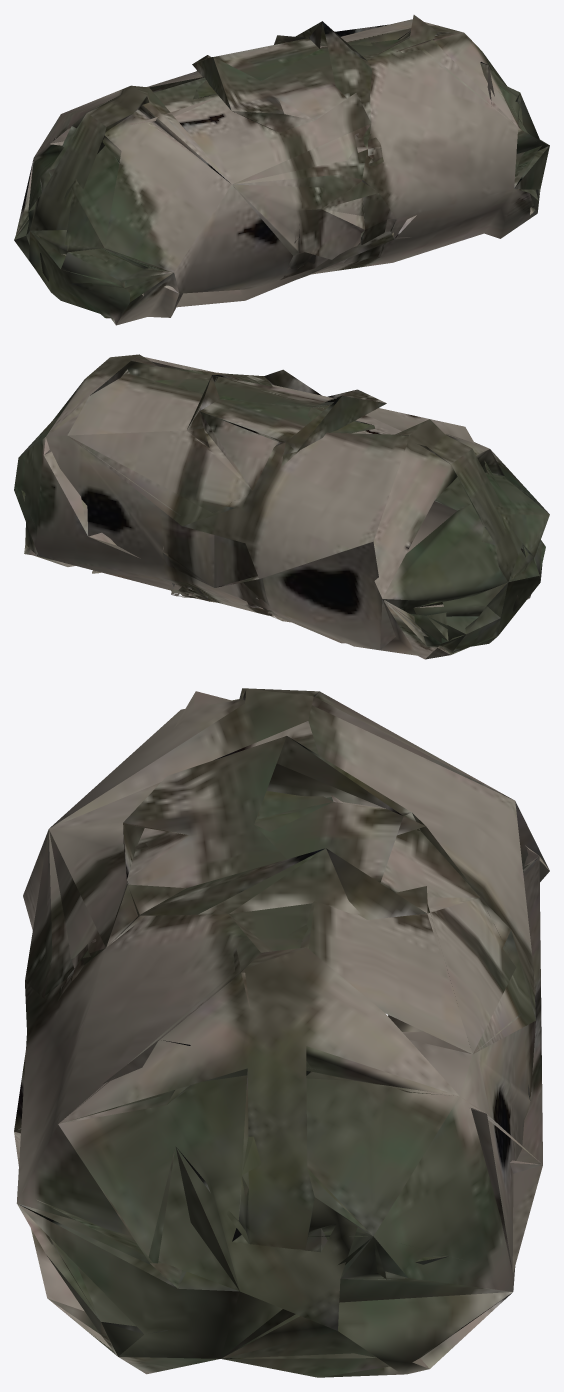
File: sandbags_2136300680_lod0.glb
The picture shows the model from 3 angles, top to bottom: view 1: azimuth 30°, elevation 25°; view 2: azimuth 150°, elevation 25°; view 3: azimuth 270°, elevation 25°; orthographic projection. The views are drawn at different scales.
Size of the model in its own units: 2.59 by 1.11 by 1.32.
1 material, 1 textured.
